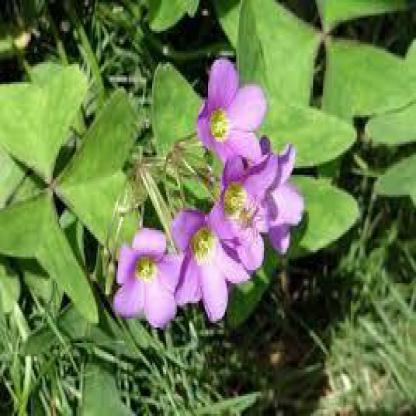Kenanga: (162, 149, 320, 307), (46, 21, 177, 194)
